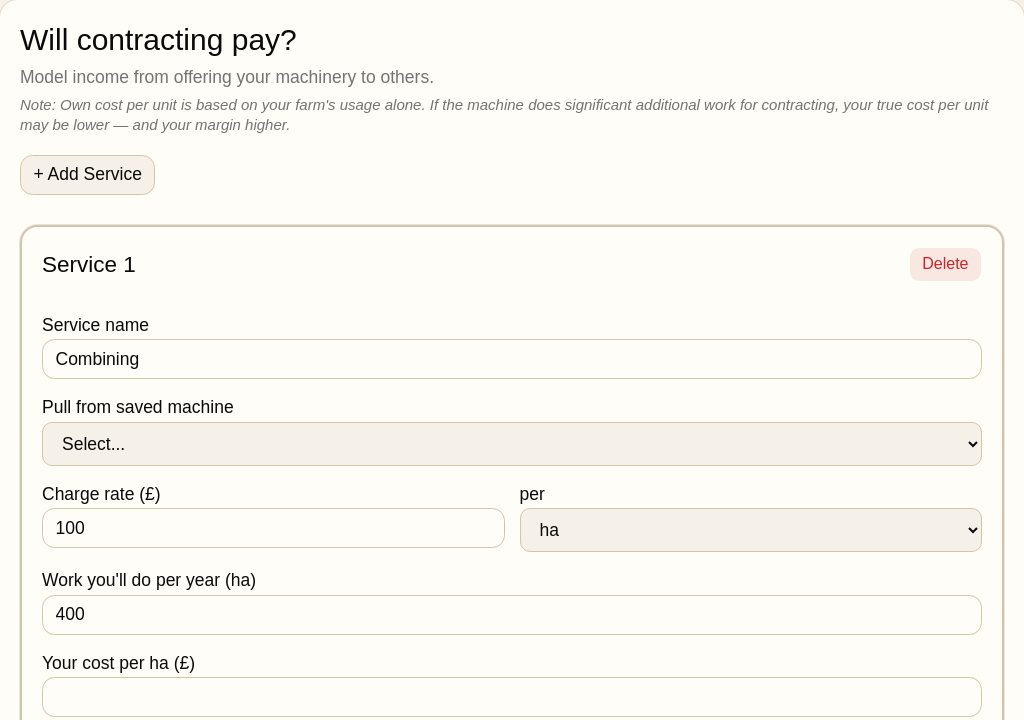
Test: ContractingIncomePlanner › shows toast message after pulling from a machine
Select "6m Drill (£30.27/ha)" in the dropdown below "Pull from saved machine" at x=512, y=444, box [42,422,982,466]
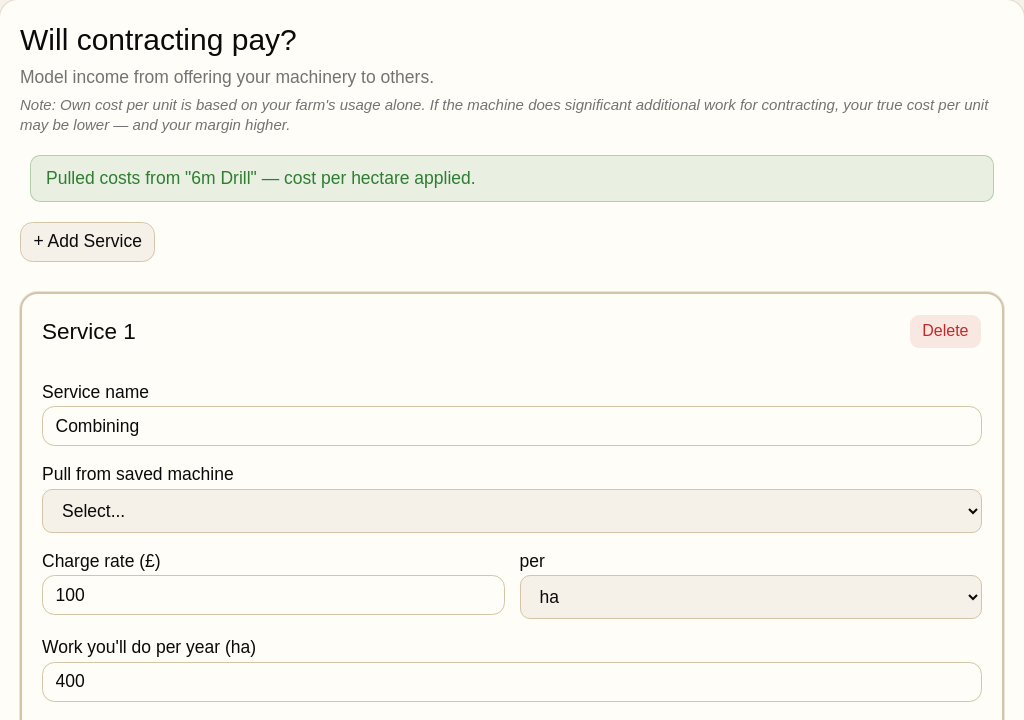
Expected: the text "Pulled costs from \"6m Drill\" — cost per hectare applied." is shown, [30,155,994,202]
